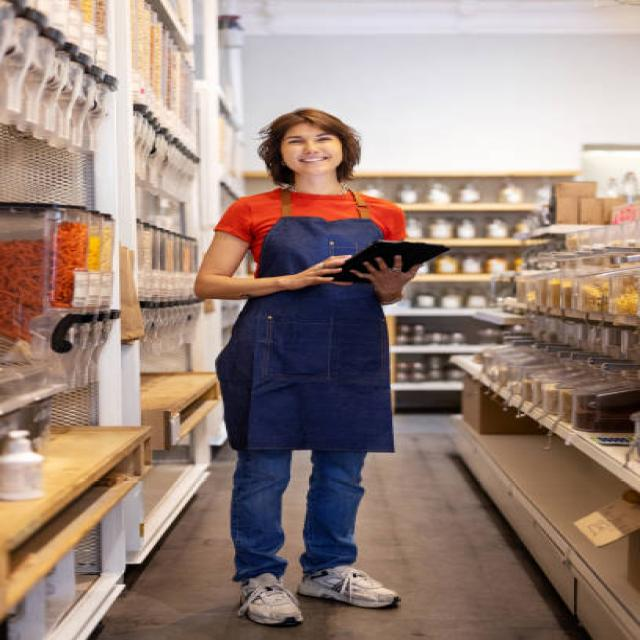Real human 2: (188, 96, 460, 637)
